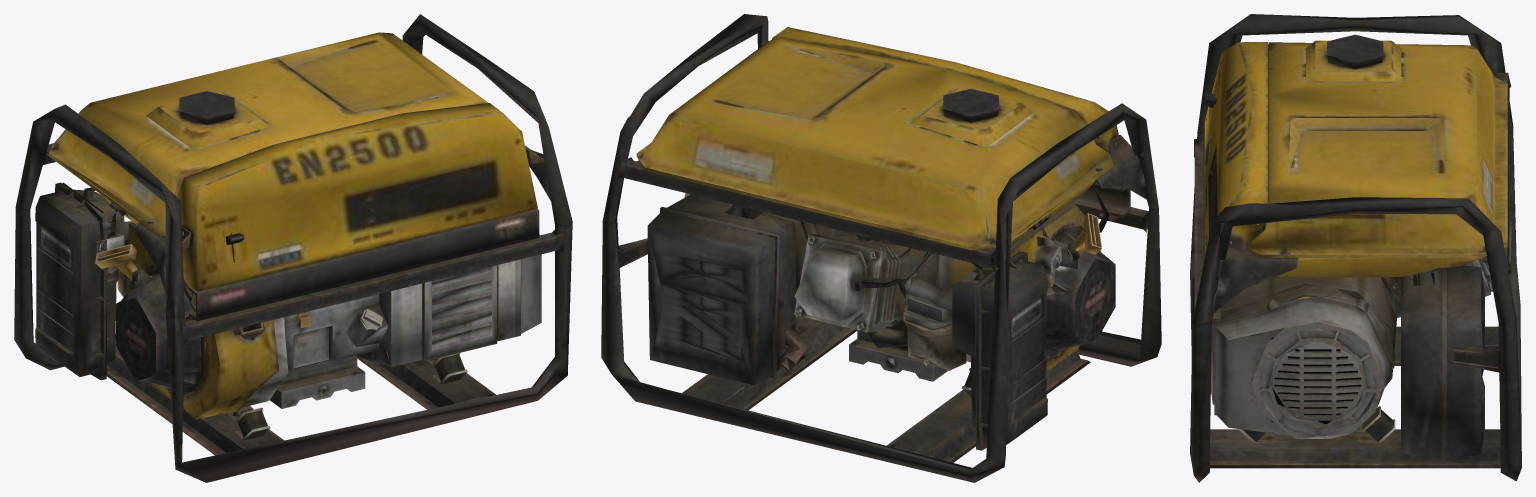
The model's file is portable_generator.glb.
3 renders of one model, left to right at view 1: azimuth 30°, elevation 25°; view 2: azimuth 150°, elevation 25°; view 3: azimuth 270°, elevation 25°, orthographic.
Visible parts, largest first — view 1: portable_generator; view 2: portable_generator; view 3: portable_generator.
Part boxes in pixels (x1,y1,x2,y2): portable_generator: (14, 14, 572, 482); portable_generator: (601, 14, 1161, 482); portable_generator: (1190, 14, 1521, 482).
Bounding box in the file's own units: 0.8146 × 0.5752 × 0.5615.
2 materials, 2 textured.
